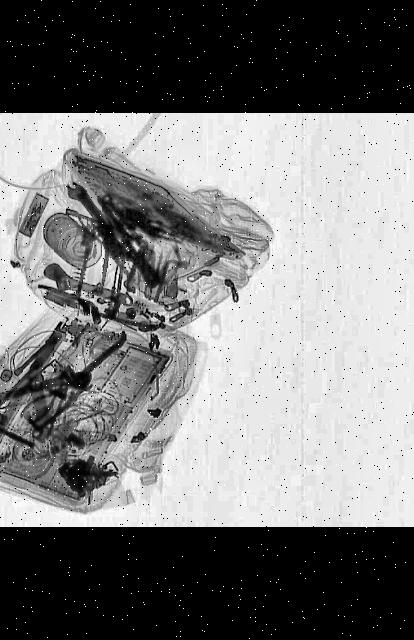Pliers: (19, 387, 67, 427)
Wrench: (35, 263, 141, 315), (0, 362, 100, 415), (60, 180, 114, 230), (25, 374, 57, 442)
